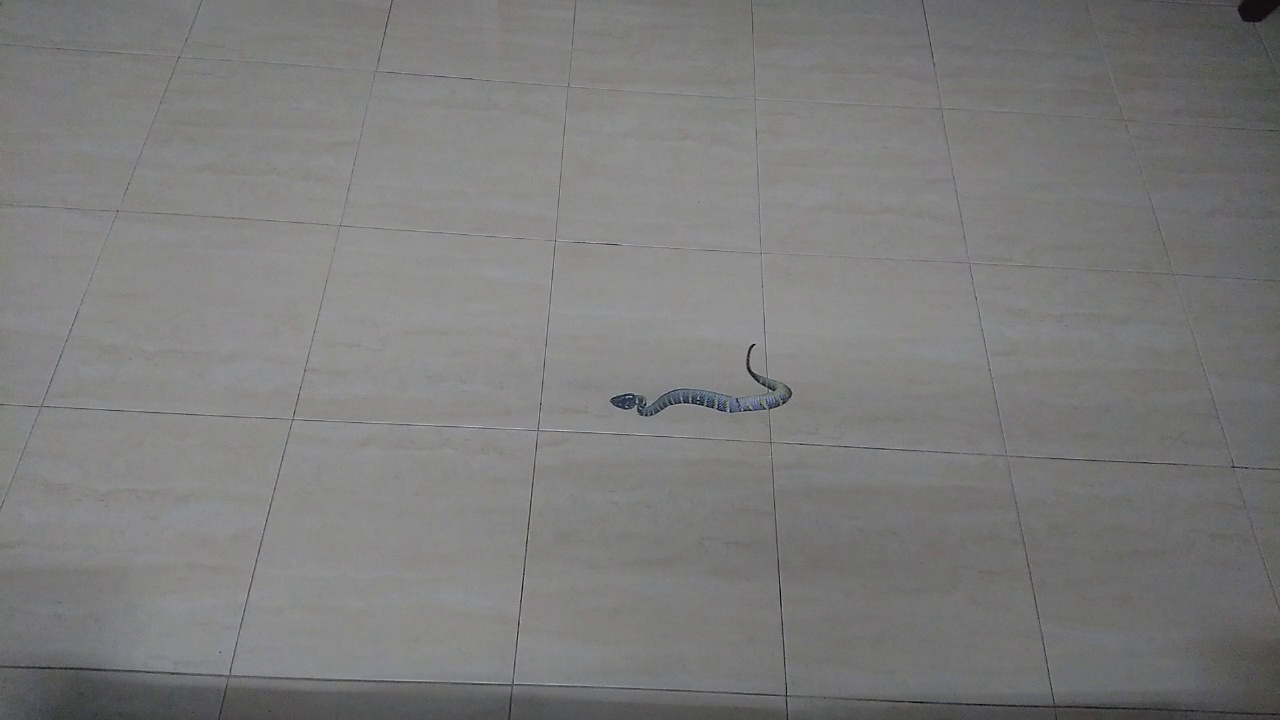snake: (591, 324, 813, 435)
